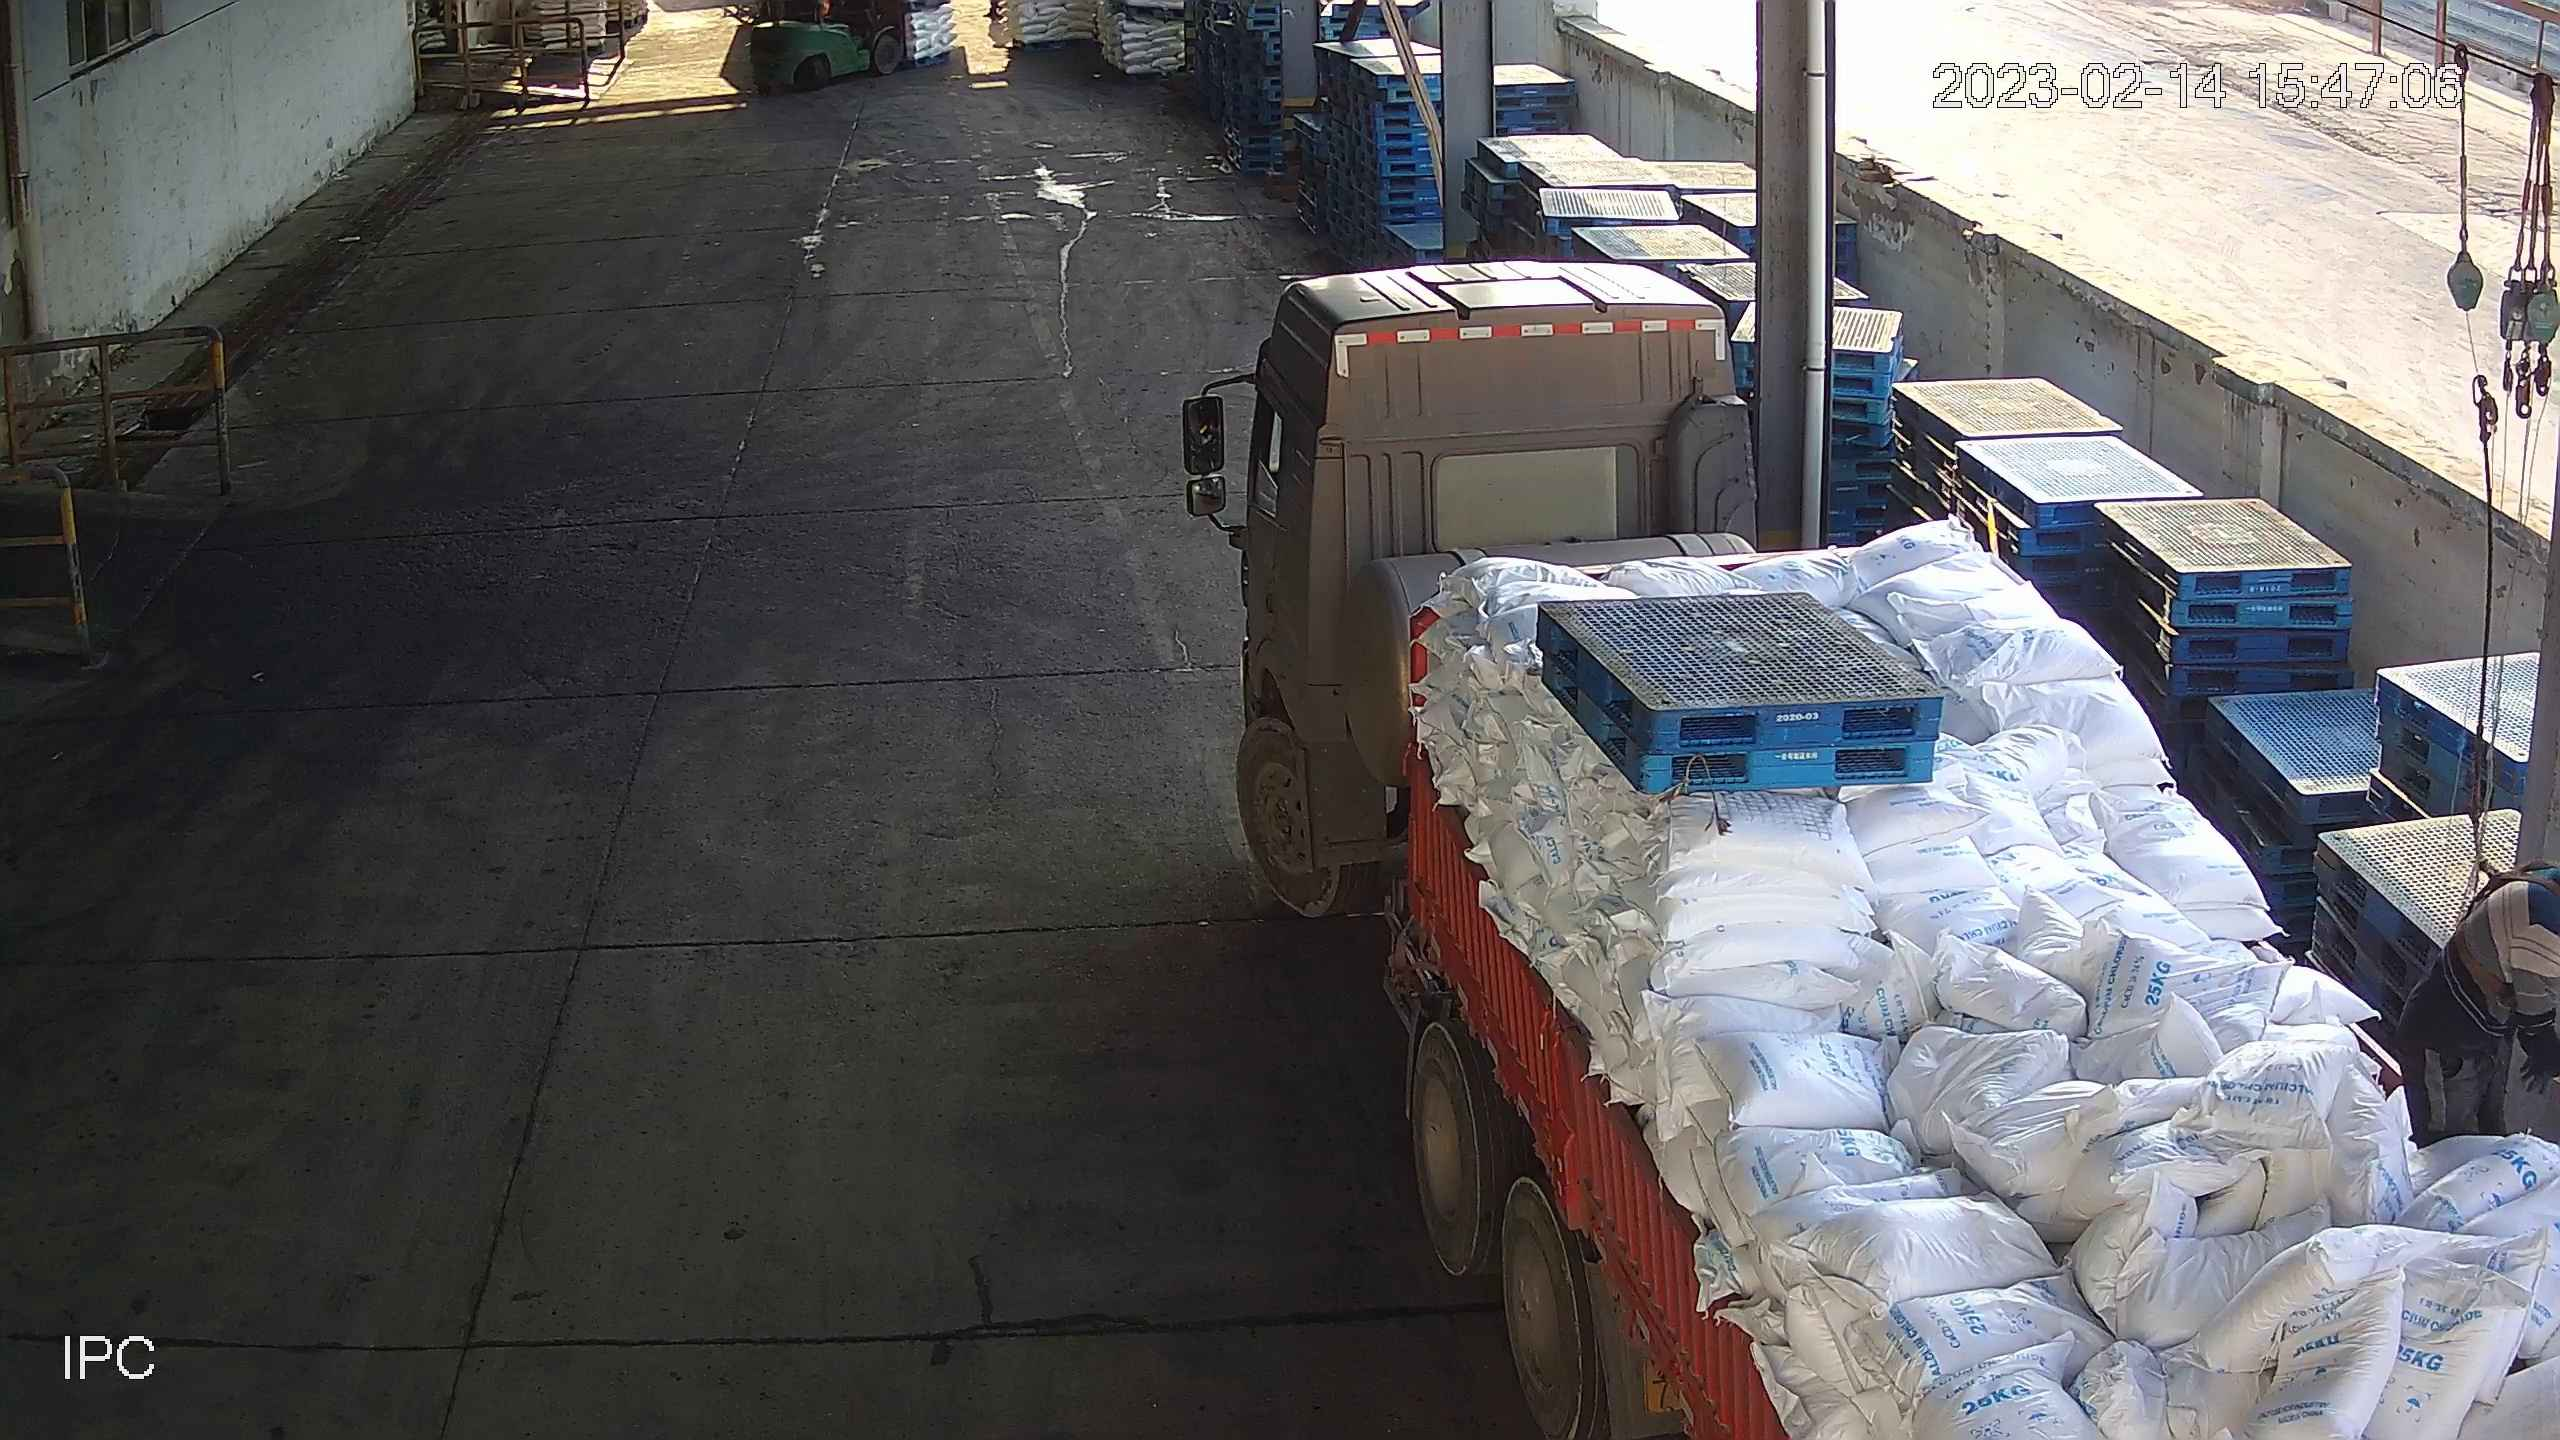belt: (2450, 854, 2560, 1002)
people: (2395, 859, 2560, 1151)
truck: (1225, 256, 2560, 1440)
